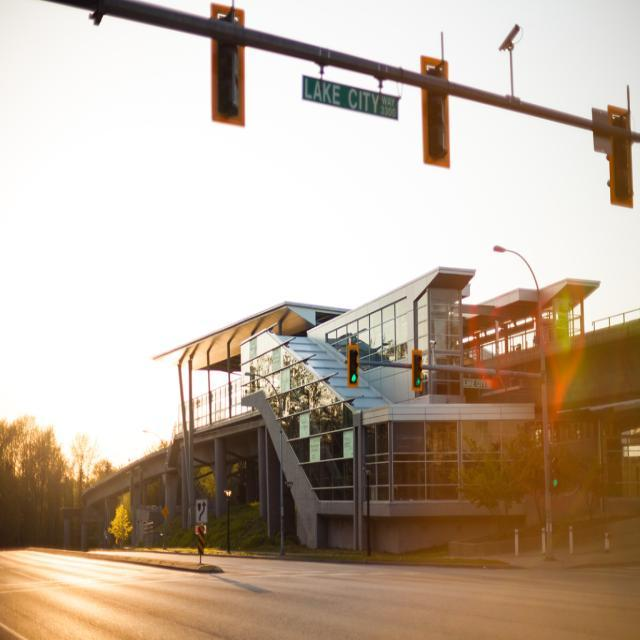traffic light: (347, 345, 360, 388), (411, 349, 423, 391), (550, 457, 561, 493)
